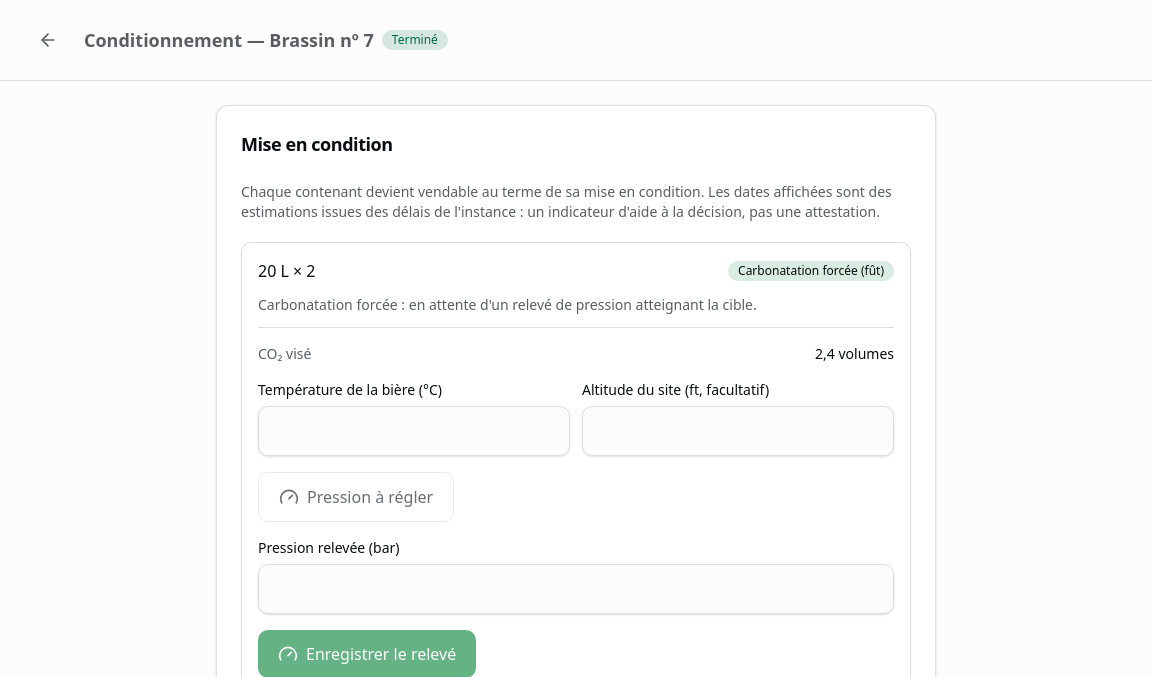
it: relevé de carbonatation forcée (#273) › aide au réglage (avant relevé) › retire la cible dès que la température change — elle ne vaut plus
The width and height of the screenshot is (1152, 677).
Type "4" into the number field labelled "Température de la bière (°C)" at (414, 431), box x1=258 y1=406 x2=570 y2=456
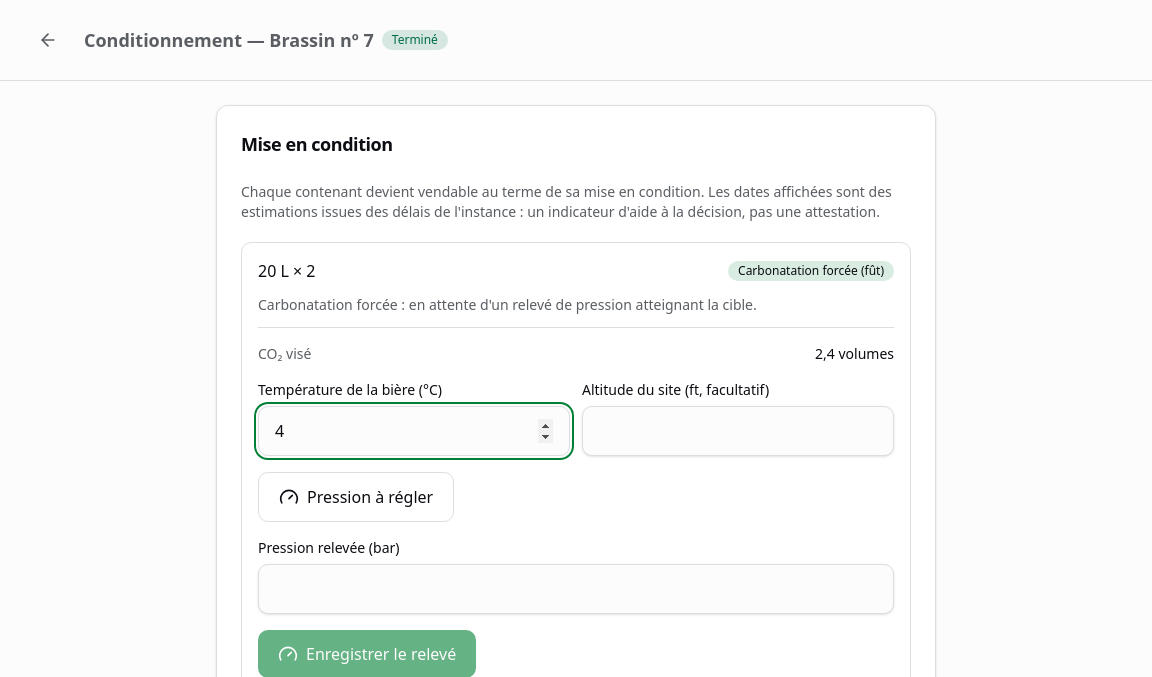
Click the button "Pression à régler" at (356, 497), box x1=258 y1=472 x2=454 y2=522
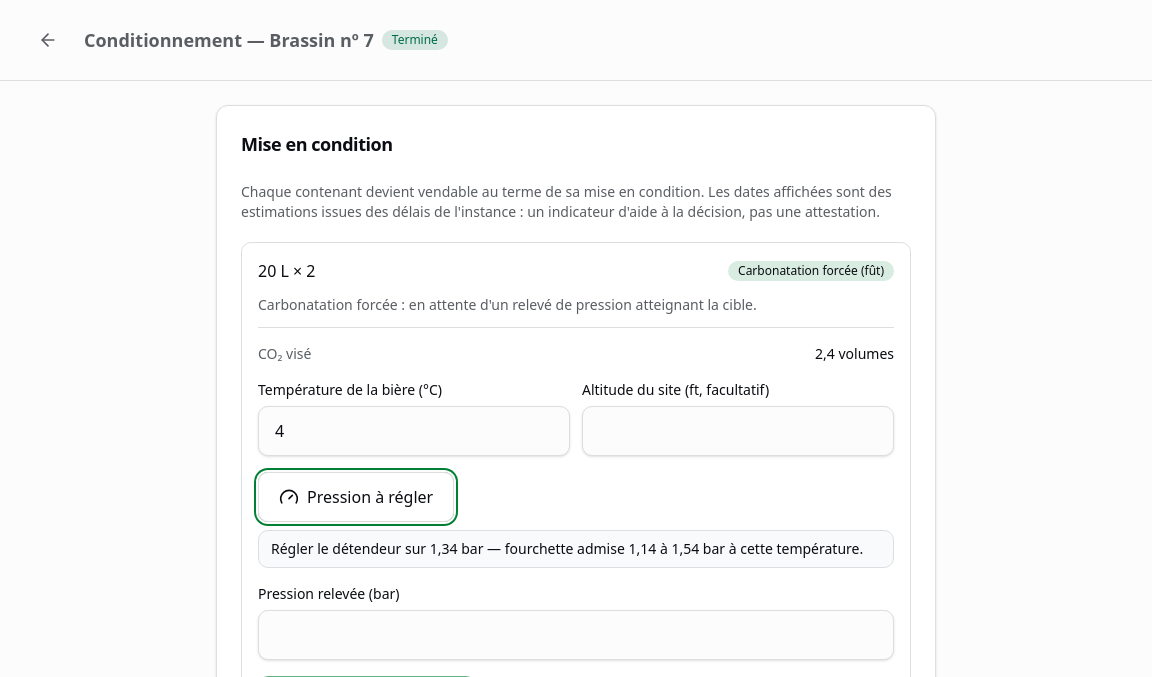
Result: the text "Régler le détendeur sur" is shown at x1=271 y1=539 x2=426 y2=558
Type "2" into the number field labelled "Température de la bière (°C)" at (414, 431), box x1=258 y1=406 x2=570 y2=456
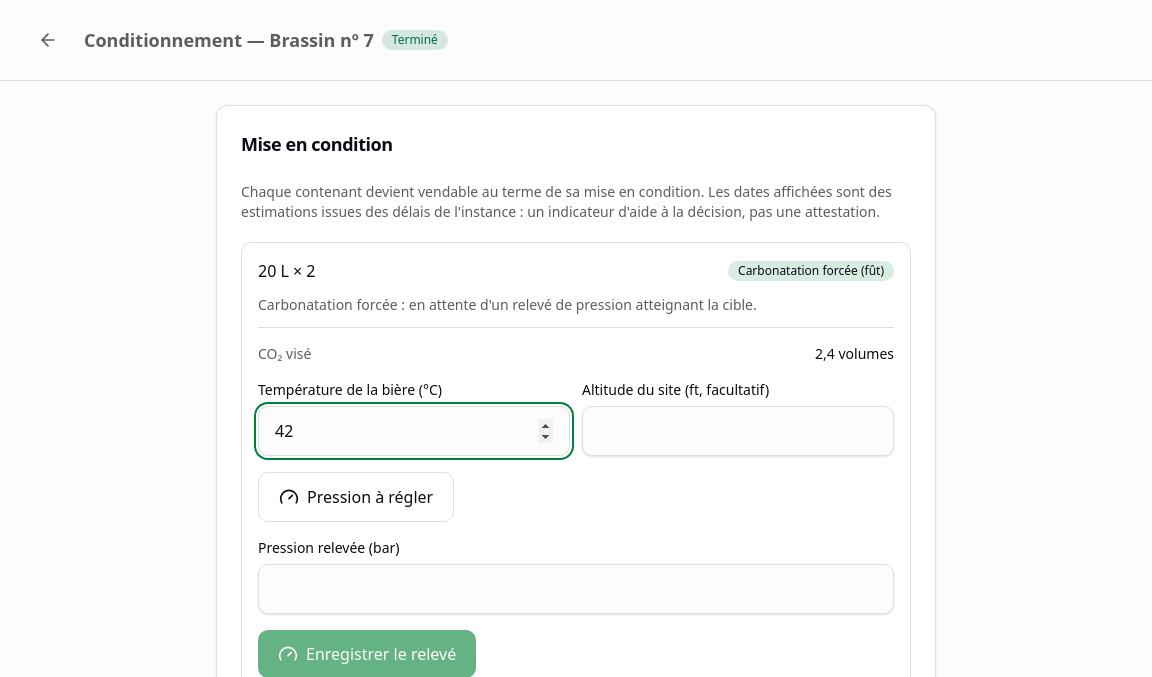
Result: the text "Régler le détendeur sur" is gone
